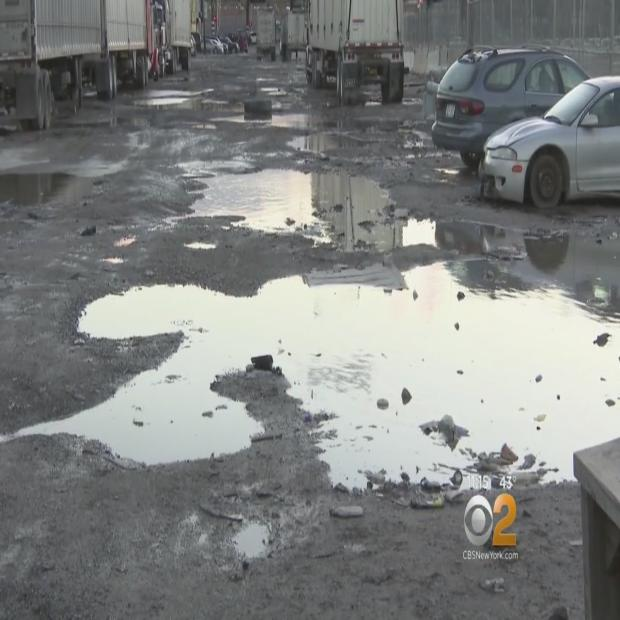lubang: (18, 264, 620, 486), (157, 162, 569, 270), (204, 108, 455, 169)
